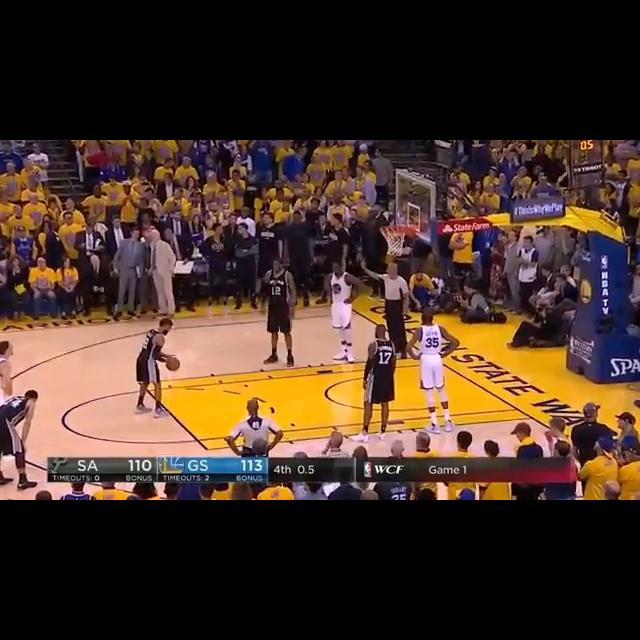basketball: (165, 355, 179, 371)
hoop: (376, 216, 412, 256)
